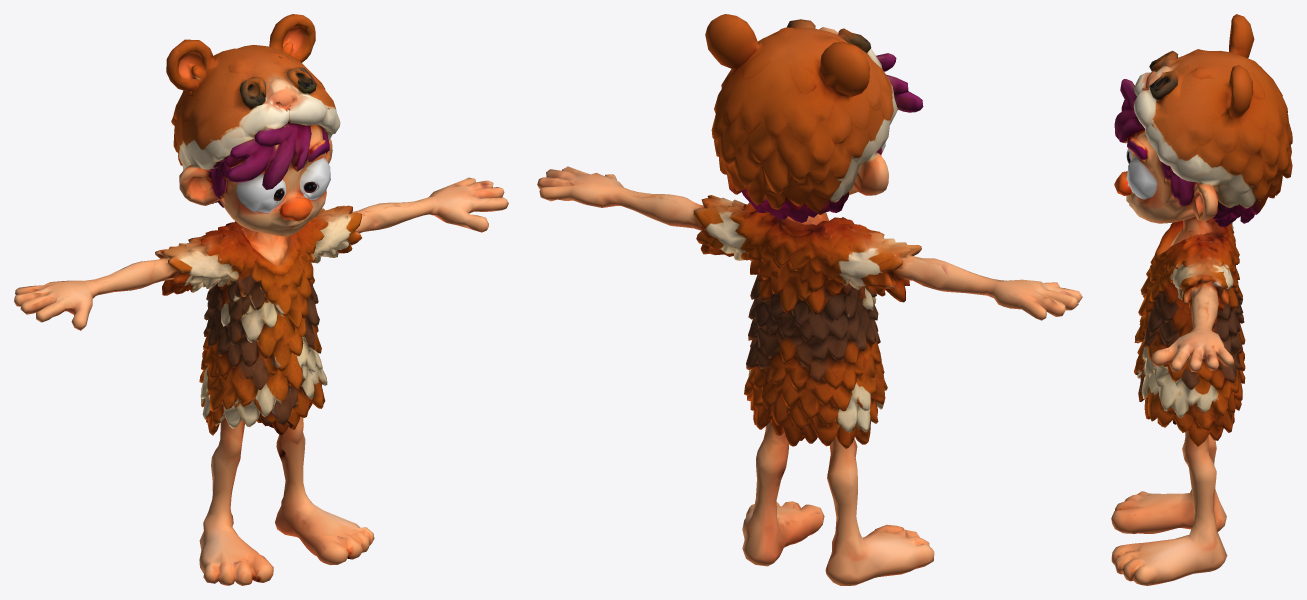
File: tribal_character_04_12000.glb
3 renders of one model, left to right at view 1: azimuth 30°, elevation 25°; view 2: azimuth 150°, elevation 25°; view 3: azimuth 270°, elevation 25°, orthographic. The views are drawn at different scales.
Visible parts, largest first — view 1: node_0; view 2: node_0; view 3: node_0.
Part boxes in pixels (x1,y1,x2,y2): node_0: (14,14,508,585); node_0: (537,14,1082,585); node_0: (1111,14,1292,585).
Size of the model in its own units: 1.13 by 1.13 by 0.3667.
1 material, 1 textured.
